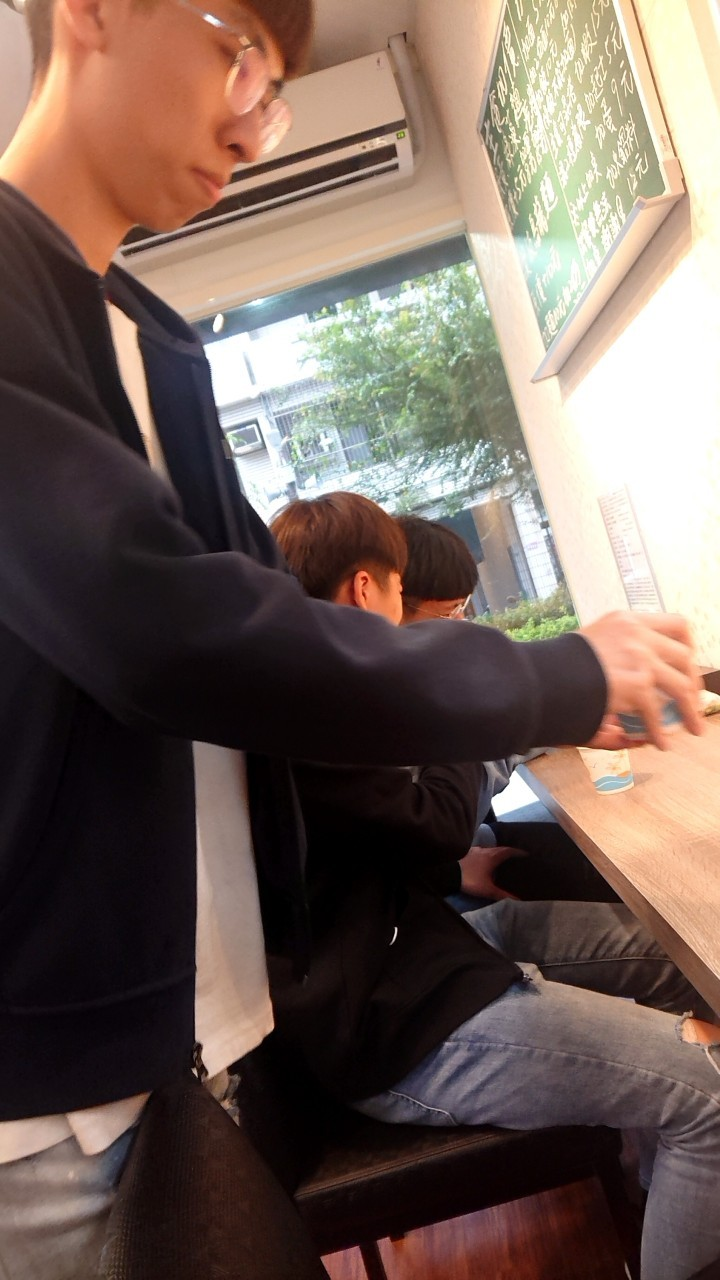people: (1, 1, 344, 1280), (250, 508, 469, 1116)
